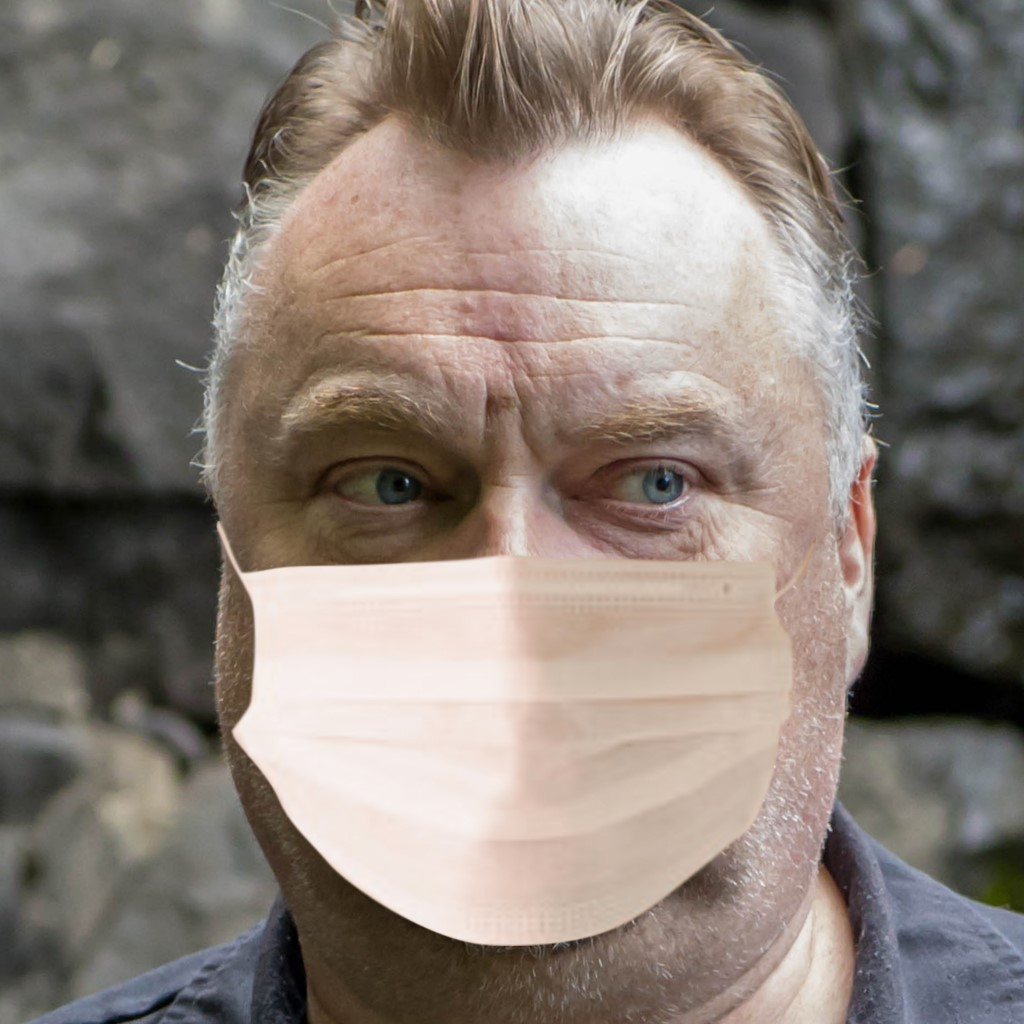con_mascara: (192, 57, 853, 989)
